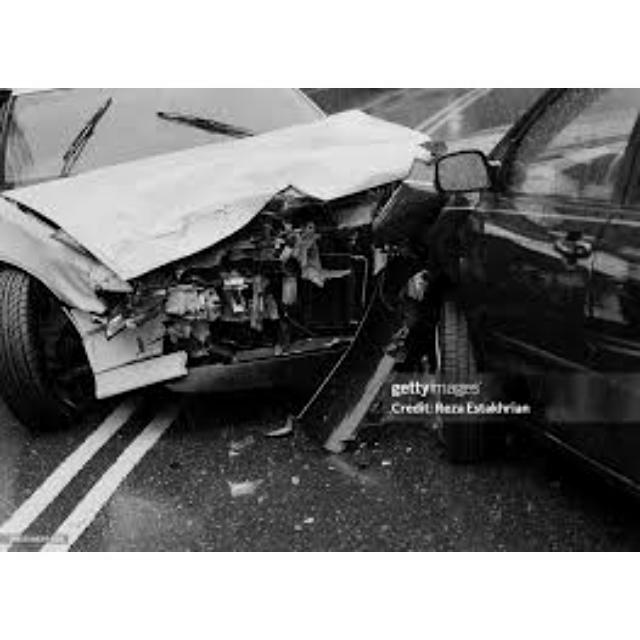bonnet-dent: (70, 130, 389, 271)
fender-dent: (358, 170, 480, 431), (0, 188, 102, 351)
front-bumper-dent: (77, 257, 395, 356)
